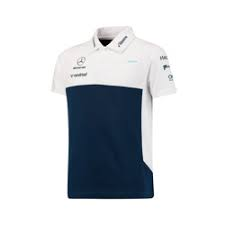C_polo shirt: (49, 29, 185, 200)
